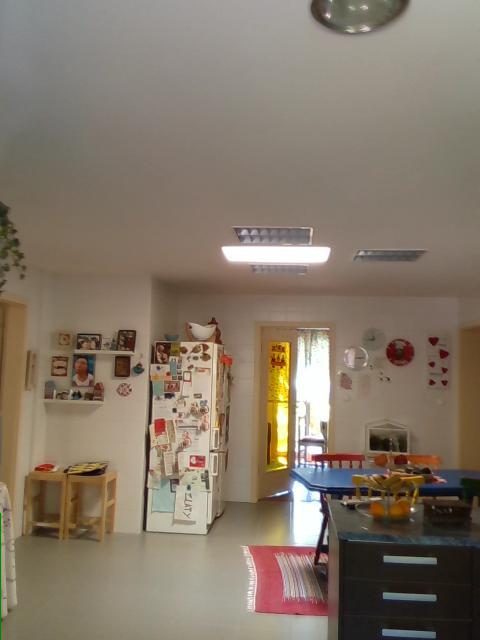semi_door: (247, 312, 338, 504)
